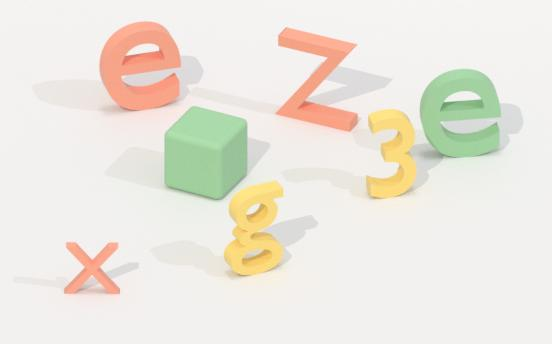3: (363, 104, 418, 202)
e: (417, 64, 506, 161), (97, 18, 184, 116)
g: (222, 179, 287, 278)
hop: (160, 100, 250, 201)
x: (62, 236, 124, 299)
z: (274, 24, 362, 137)
